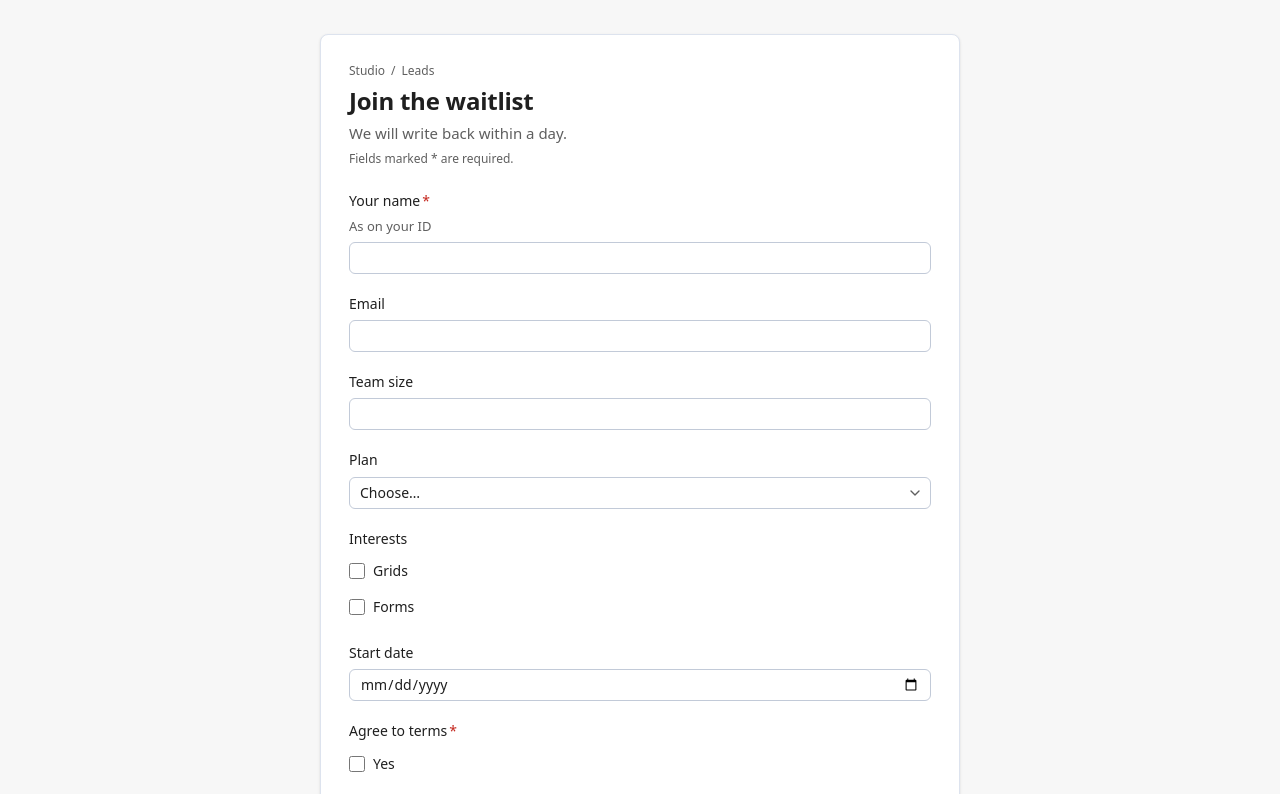
Test case: a public form › does not offer another response when the form says not to
Type "Ada Lovelace" into the field labelled "Your name*" at {"x": 640, "y": 258}, box [349, 242, 931, 274]
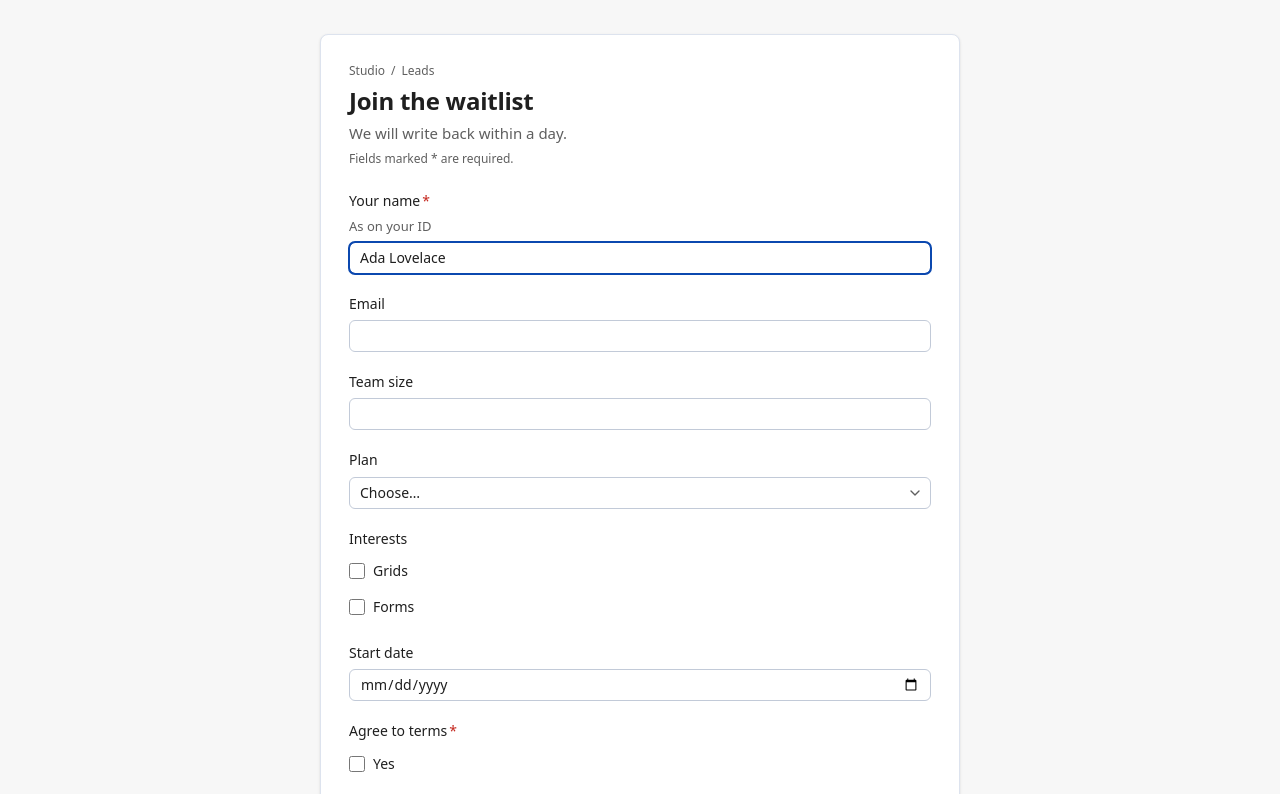
Click the checkbox labelled "Agree to terms*" at {"x": 357, "y": 764}, box [349, 756, 365, 772]
(page scrolled)
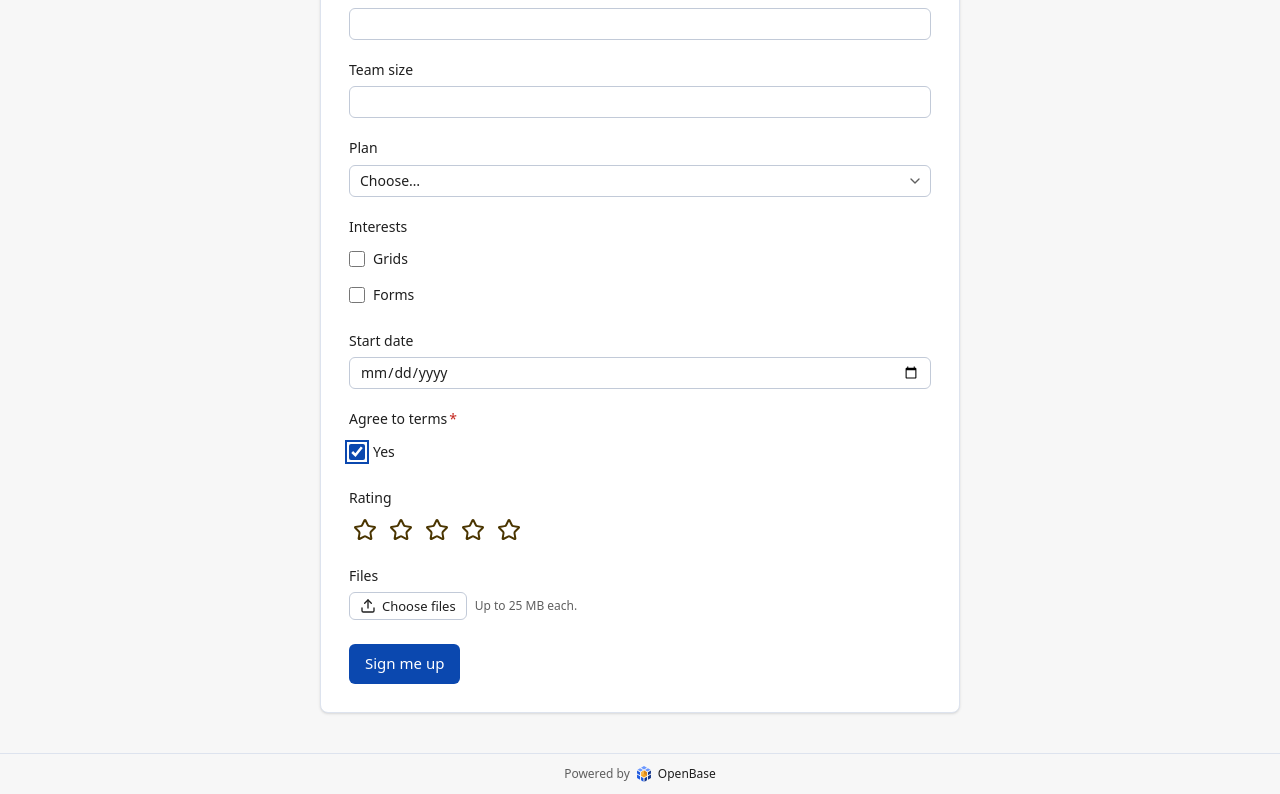
Click the button "Sign me up" at {"x": 405, "y": 664}, box [349, 644, 460, 684]
(page scrolled)
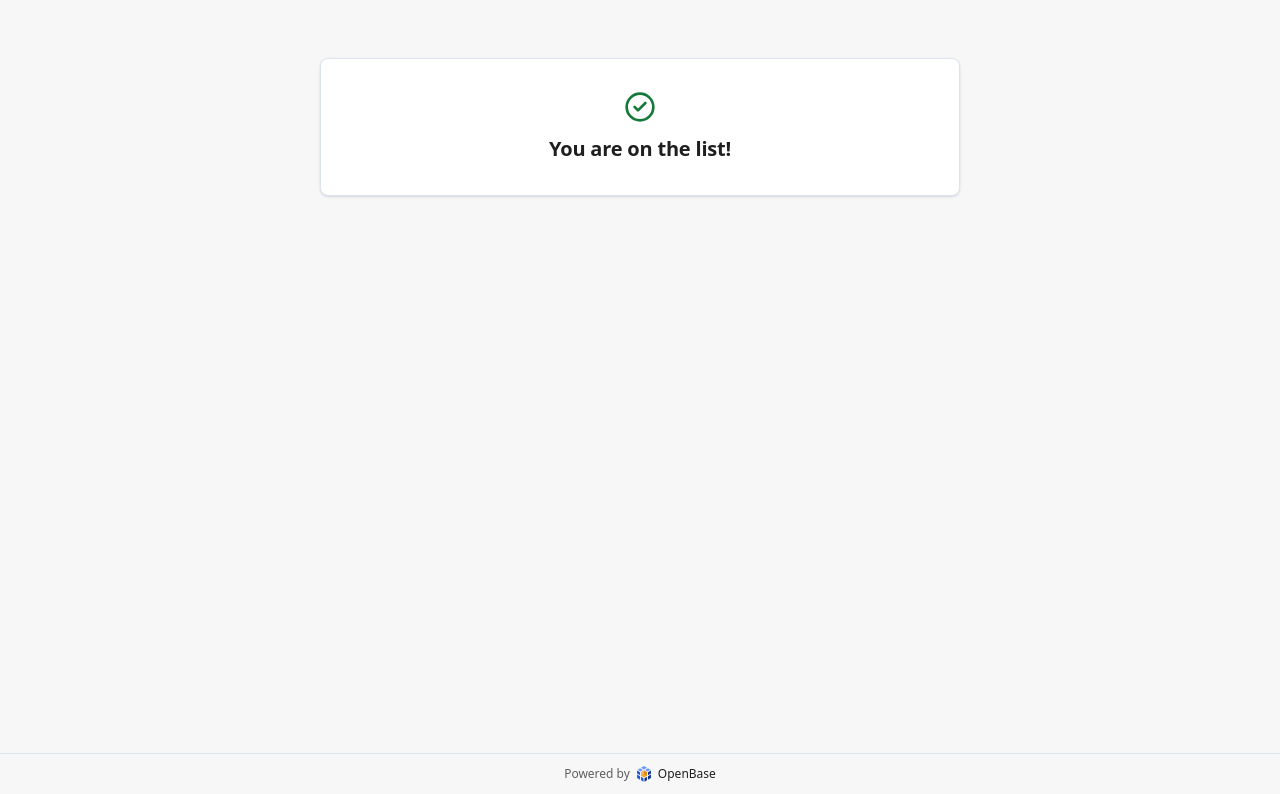
Result: the heading "You are on the list!" is shown at [549, 135, 731, 163]
